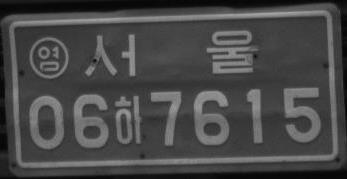0: (28, 94, 64, 151)
1: (239, 88, 274, 144)
5: (282, 86, 322, 144)
6: (192, 89, 230, 147), (72, 92, 109, 149)
7: (149, 90, 182, 146)
서울_D: (85, 28, 259, 77)
영: (28, 36, 69, 79)
하: (113, 95, 143, 144)
